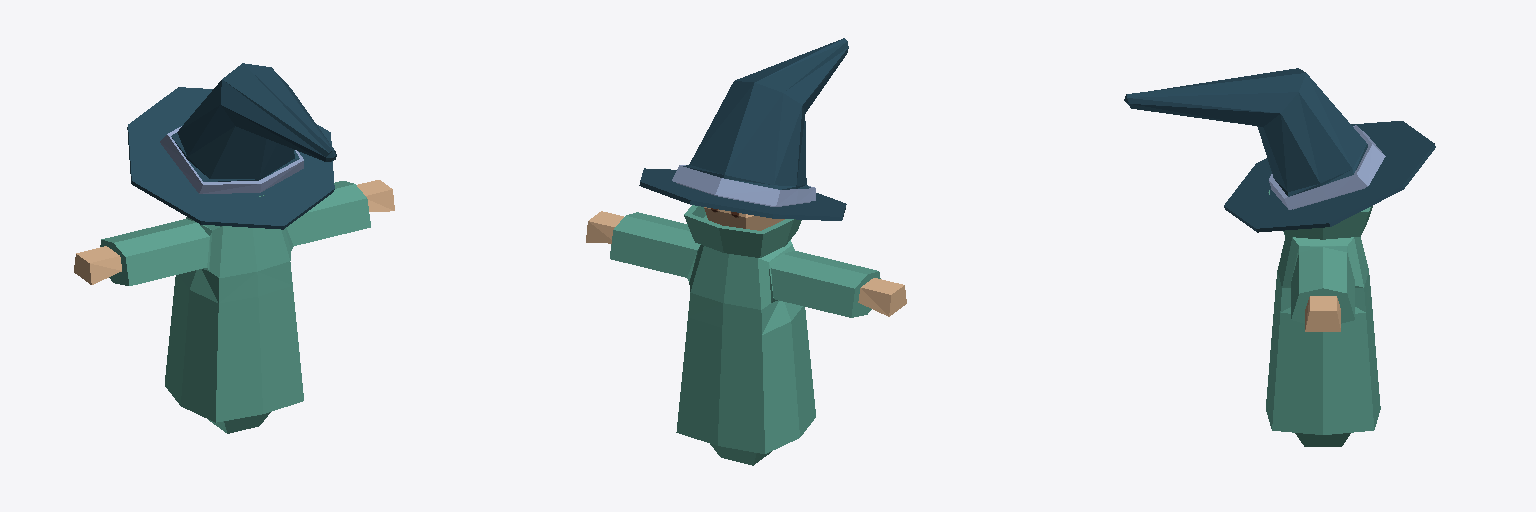
The picture shows the model from 3 angles: view 1: azimuth 30°, elevation 25°; view 2: azimuth 150°, elevation 25°; view 3: azimuth 270°, elevation 25°; orthographic projection.
Visible parts, largest first — view 1: peasant_GEO; view 2: peasant_GEO; view 3: peasant_GEO.
Boxes of the visible parts, <box> form: peasant_GEO: <box>74,63,394,433</box>; peasant_GEO: <box>586,38,906,465</box>; peasant_GEO: <box>1124,68,1435,446</box>.
Size of the model in its own units: 3.42 by 3.95 by 3.05.
1 materials, 1 textured.